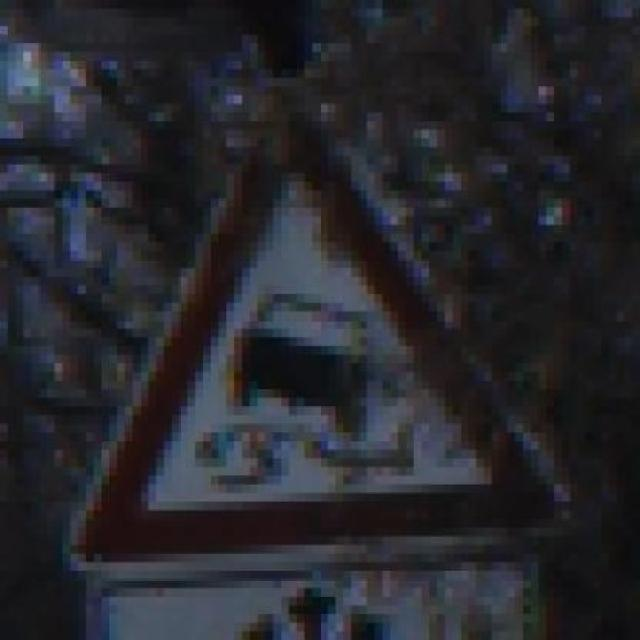Slippery Road Ahead: (53, 114, 584, 581)
